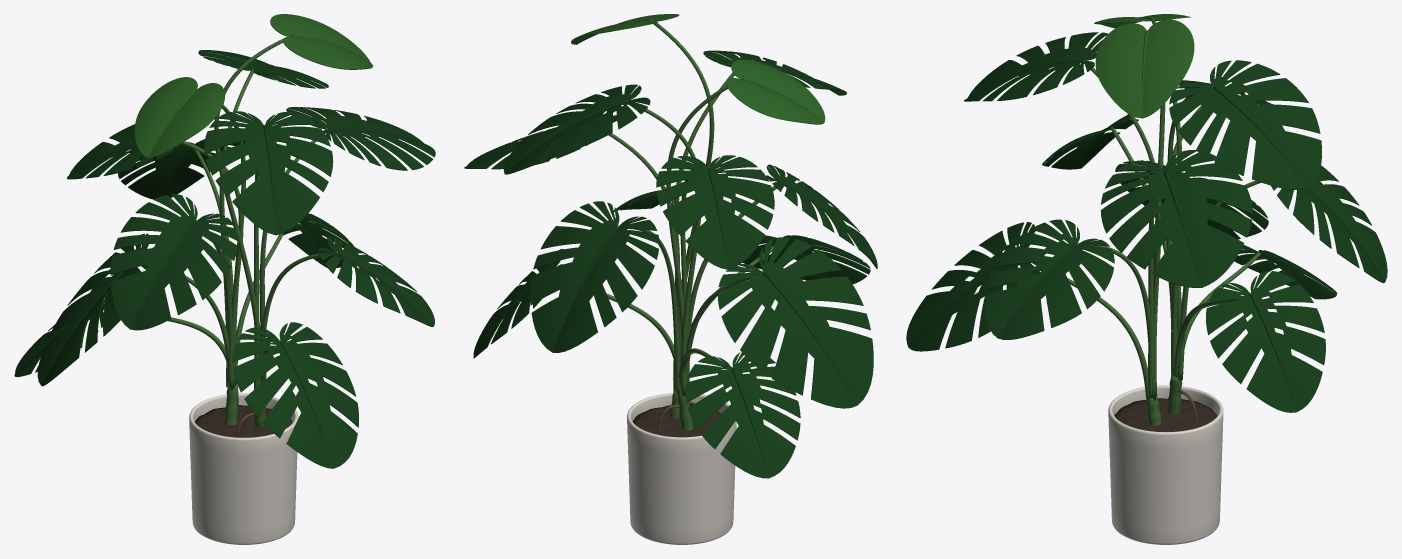
Rendered from plant_floor.fbx.
3 views of the same model, side by side, from view 1: azimuth 30°, elevation 25°; view 2: azimuth 150°, elevation 25°; view 3: azimuth 270°, elevation 25° (orthographic). The views are drawn at different scales.
Visible parts, largest first — view 1: plant_floor; view 2: plant_floor; view 3: plant_floor.
Boxes of the visible parts, bbox=[...] form: plant_floor: bbox=[14, 14, 435, 544]; plant_floor: bbox=[464, 14, 877, 544]; plant_floor: bbox=[906, 14, 1387, 544].
Bounding box in the file's own units: 1.32 × 1.34 × 1.59.
